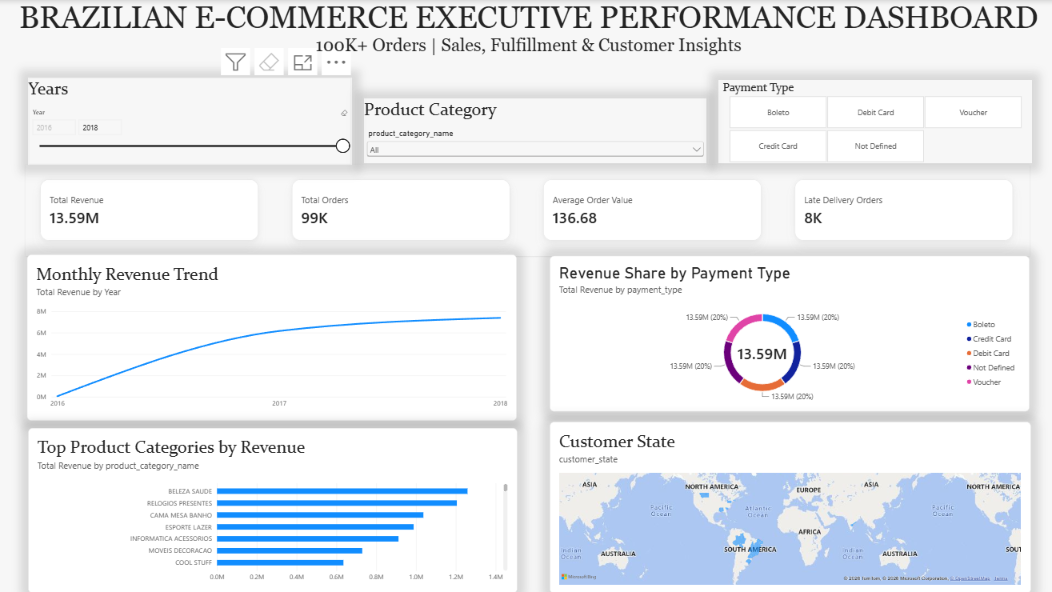

Layout of this report page (visuals, bound fields, positions):
{"tool":"powerbi","page":{"name":"Page 1","canvas":[1920,1080],"ordinal":0},"visuals":[{"type":"cardVisual","title":"Total Revenue","fields":{"Data":["orders.Total Revenue","orders.Total Orders","orders.Average Order Value","orders.Late Delivery Orders"]},"box":[47.1,299.3,1823.8,164.9],"z":0},{"type":"lineChart","title":"Monthly Revenue Trend","fields":{"Category":["orders.order_purchase_timestamp.Variation.Date Hierarchy.Year","orders.order_purchase_timestamp.Variation.Date Hierarchy.Quarter","orders.order_purchase_timestamp.Variation.Date Hierarchy.Month","orders.order_purchase_timestamp.Variation.Date Hierarchy.Day"],"Y":["orders.Total Revenue"]},"box":[49.4,463.2,889.9,301.9],"z":1},{"type":"barChart","title":"Top Product Categories by Revenue","fields":{"Category":["products.product_category_name"],"Y":["orders.Total Revenue"]},"box":[51.8,777.6,888.3,301.6],"z":2},{"type":"donutChart","title":"Revenue Share by Payment Type","fields":{"Category":["payments.payment_type"],"Y":["orders.Total Revenue"]},"box":[999.1,464.2,871.8,282.8],"z":3},{"type":"filledMap","title":"Customer State","fields":{"Category":["customers.customer_state"]},"box":[999.1,765.8,874.2,313.4],"z":4},{"type":"slicer","title":"Years","fields":{"Values":["orders.Purchase_Date.Variation.Date Hierarchy.Year"]},"box":[52,140.5,588.1,158.7],"z":5},{"type":"slicer","title":"Product Category","fields":{"Values":["products.product_category_name"]},"box":[661,179.6,621.9,117.1],"z":6},{"type":"slicer","fields":{"Values":["payments.payment_type"]},"box":[1306.3,145.7,569.9,150.9],"z":7},{"type":"textbox","box":[0,0,1920.4,140.5],"z":8}]}

Visuals, with their boxes on the page's 1920x1080 design canvas (x1, y1, x2, y2). These are canvas units, not pixel positions in the 1052x592 screenshot, which may show the page scaled, cropped or inside an application window:
"Total Revenue" cardVisual: x1=47 y1=299 x2=1871 y2=464
"Monthly Revenue Trend" lineChart: x1=49 y1=463 x2=939 y2=765
"Top Product Categories by Revenue" barChart: x1=52 y1=778 x2=940 y2=1079
"Revenue Share by Payment Type" donutChart: x1=999 y1=464 x2=1871 y2=747
"Customer State" filledMap: x1=999 y1=766 x2=1873 y2=1079
"Years" slicer: x1=52 y1=140 x2=640 y2=299
"Product Category" slicer: x1=661 y1=180 x2=1283 y2=297
slicer - payments.payment_type: x1=1306 y1=146 x2=1876 y2=297
textbox: x1=0 y1=0 x2=1920 y2=140
